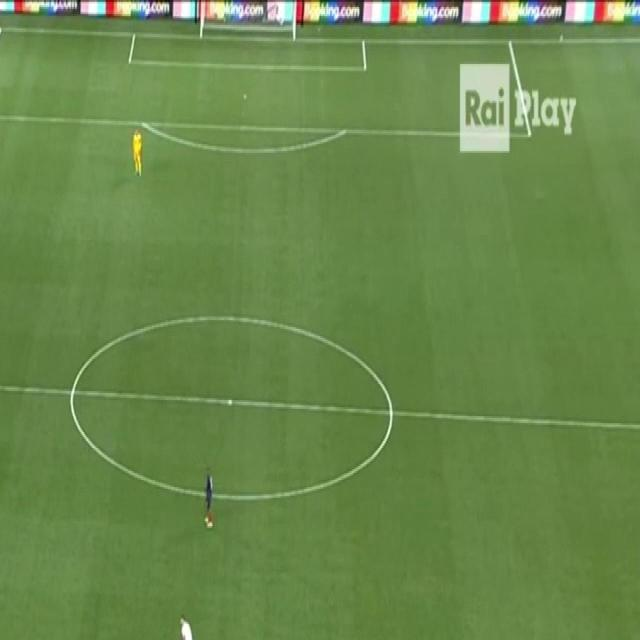player-white: (201, 462, 215, 534), (130, 126, 144, 182), (178, 611, 194, 640)
